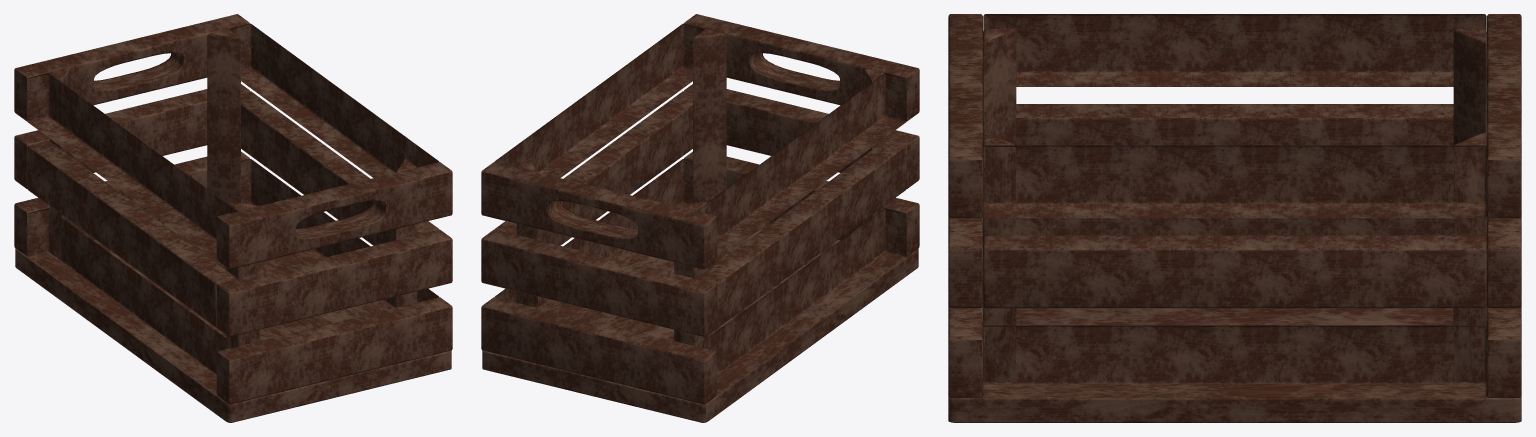
File: Group Proj - Small Crate .fbx
3 renders of one model, left to right at view 1: azimuth 30°, elevation 25°; view 2: azimuth 150°, elevation 25°; view 3: azimuth 270°, elevation 25°, orthographic. The views are drawn at different scales.
Visible parts, largest first — view 1: Small Crate; view 2: Small Crate; view 3: Small Crate.
Part boxes in pixels (<box>): Small Crate: <box>14,14,452,422</box>; Small Crate: <box>481,14,919,422</box>; Small Crate: <box>948,14,1521,422</box>.
Size of the model in its own units: 140 by 118 by 232.
1 material, 1 textured.
